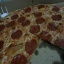pepperoni: (24, 36, 39, 52), (12, 15, 33, 25), (7, 53, 28, 63), (45, 20, 59, 33), (11, 28, 24, 40), (31, 11, 42, 25), (38, 34, 54, 43), (30, 21, 40, 32)
pizza: (1, 5, 62, 62)
